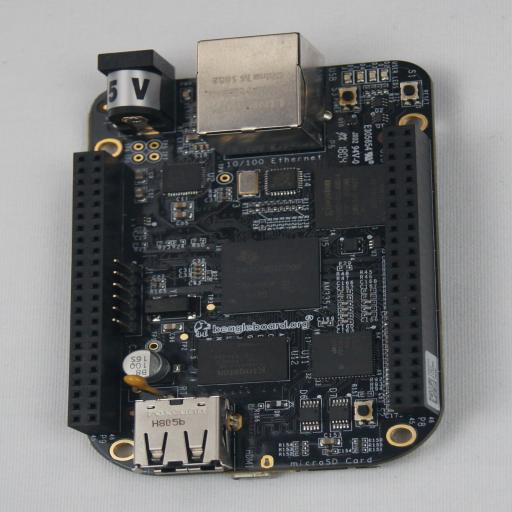Beaglebone Black: (68, 48, 444, 480)
